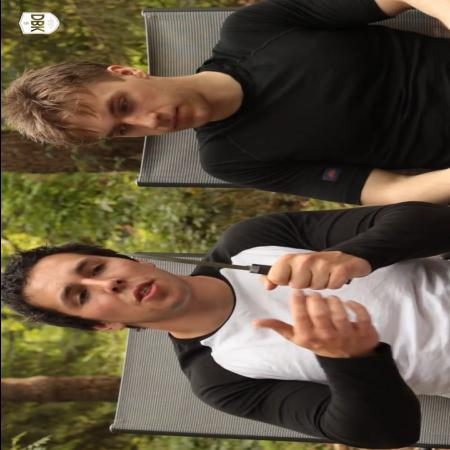long weapon: (103, 244, 356, 290)
